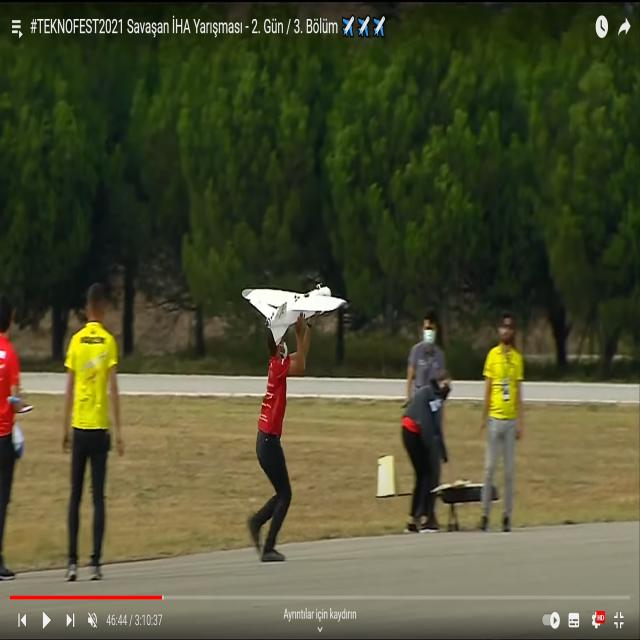iha: (273, 283, 315, 344)
